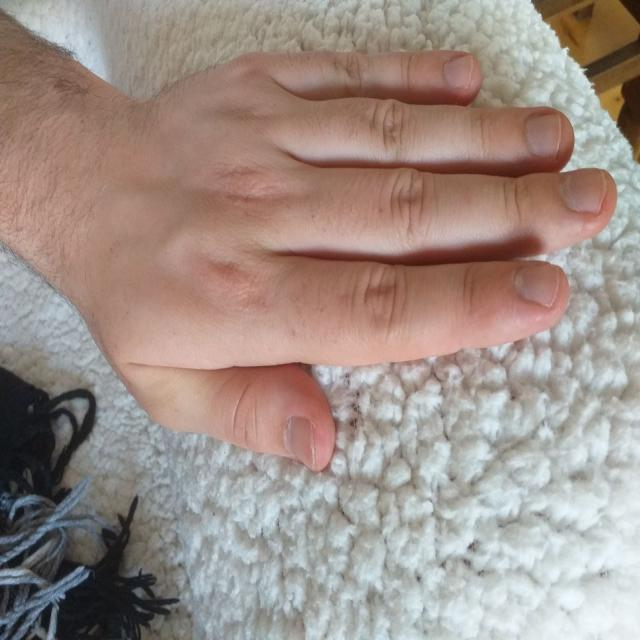Nail: (512, 262, 565, 307), (284, 416, 321, 469), (525, 111, 562, 159), (560, 170, 600, 211), (444, 58, 472, 89)
